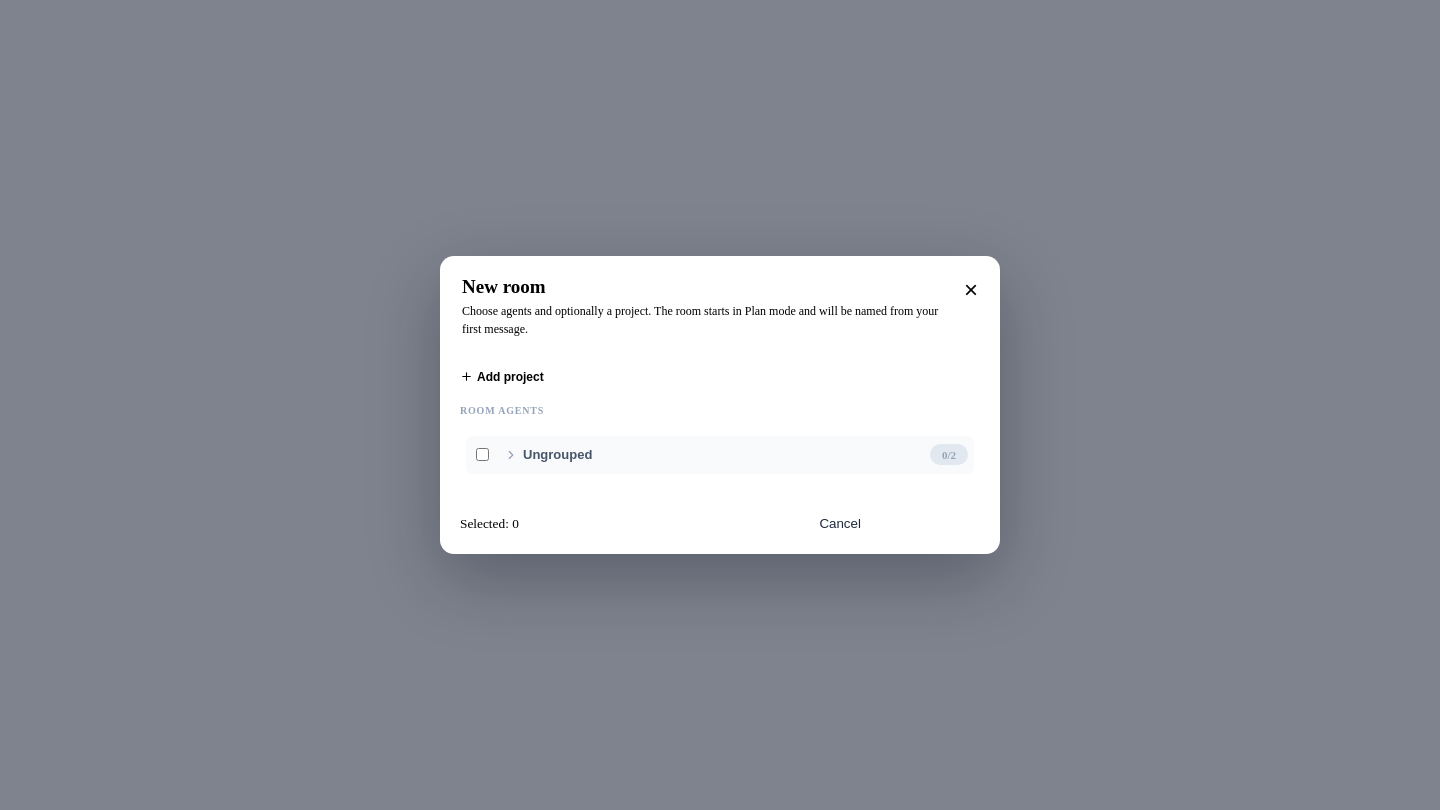
room agent pickers › shows harness icons when creating a room
The image size is (1440, 810).
Click the button "Ungrouped". click: (558,455)
box: [500, 441, 922, 469]
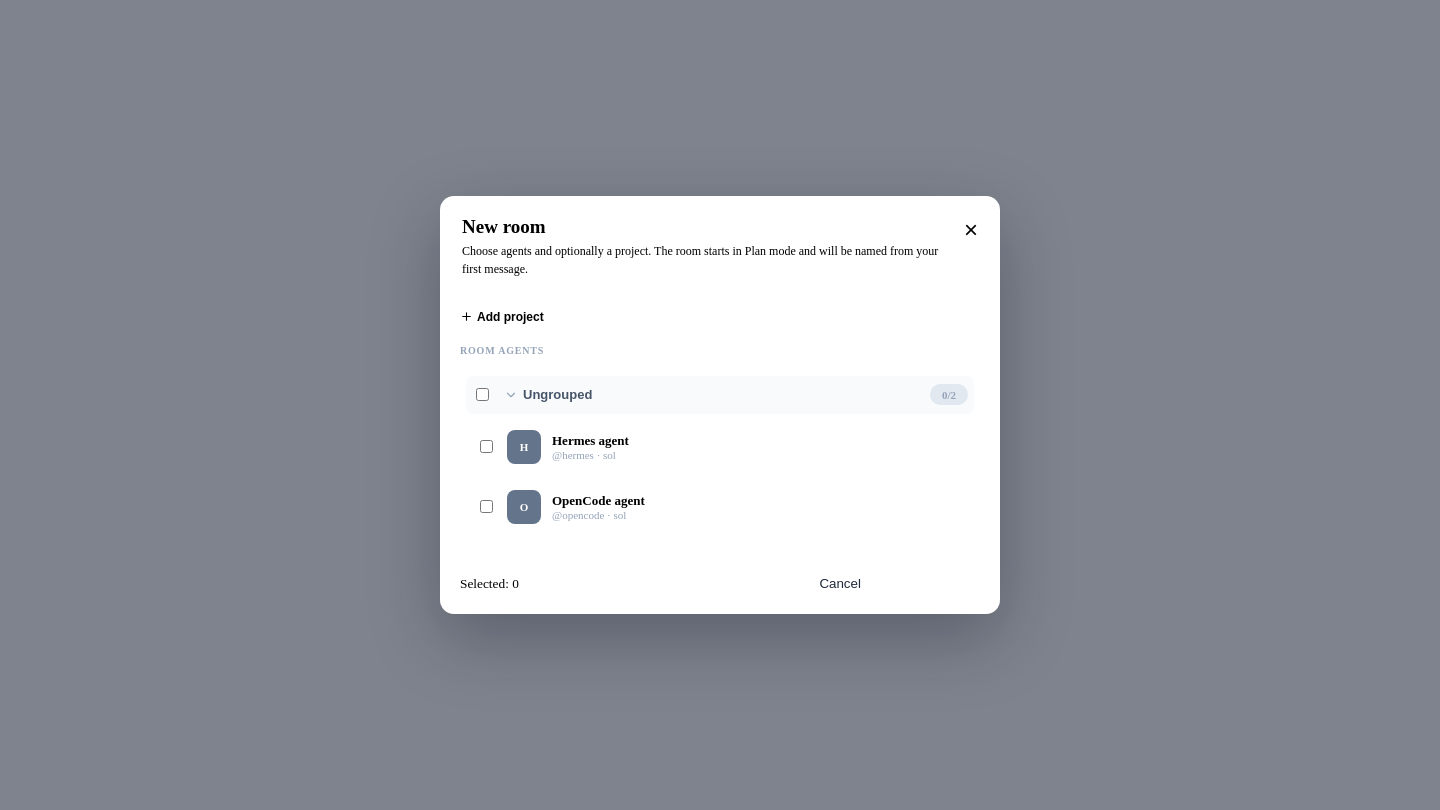
Expected: the text "@hermes · sol" is shown, [552, 449, 616, 461]
